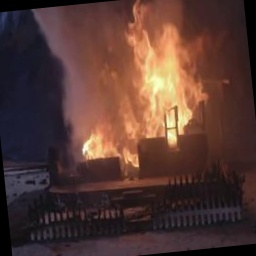fire: (66, 0, 216, 180)
